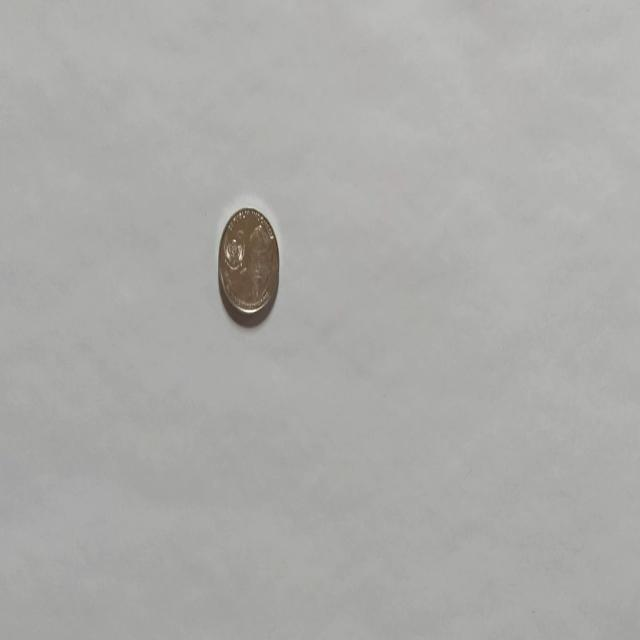dua ratus rupiah: (217, 205, 280, 326)
